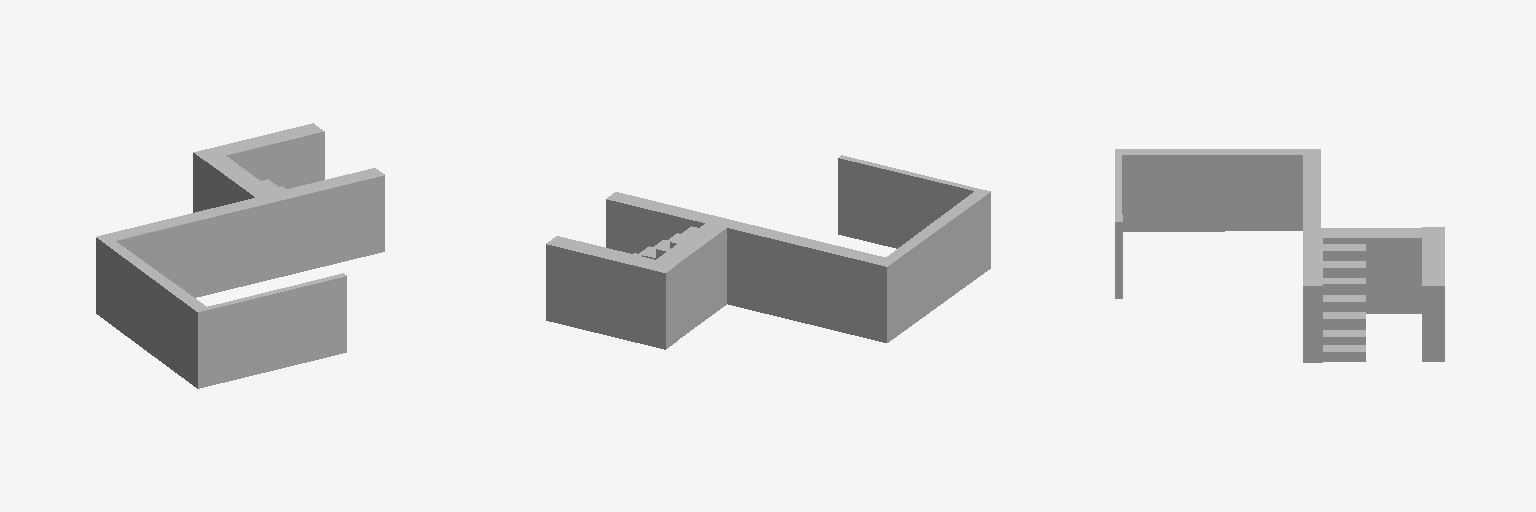
Rendered from bright_131_2.obj.
3 views of the same model, side by side, from view 1: azimuth 30°, elevation 25°; view 2: azimuth 150°, elevation 25°; view 3: azimuth 270°, elevation 25° (orthographic).
Visible parts, largest first — view 1: polySurface4; view 2: polySurface4; view 3: polySurface4.
Boxes of the visible parts, x1=… form: polySurface4: x1=96, y1=123, x2=384, y2=388; polySurface4: x1=546, y1=155, x2=990, y2=349; polySurface4: x1=1115, y1=149, x2=1444, y2=362.
Bounding box in the file's own units: 73.7 × 19.14 × 74.86.